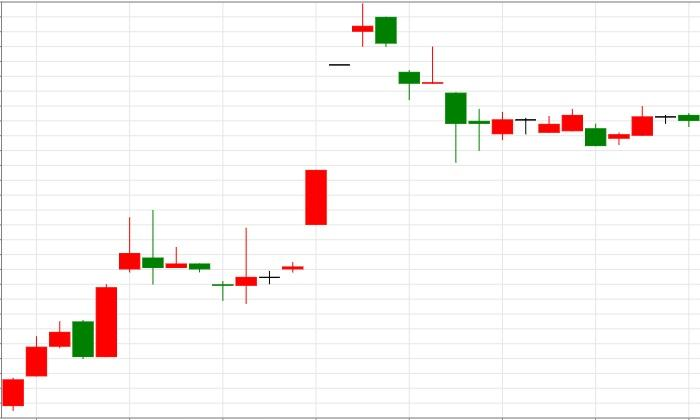shooting_star_fall: (1, 217, 141, 412)
